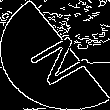N_NE: (17, 24, 93, 86)
